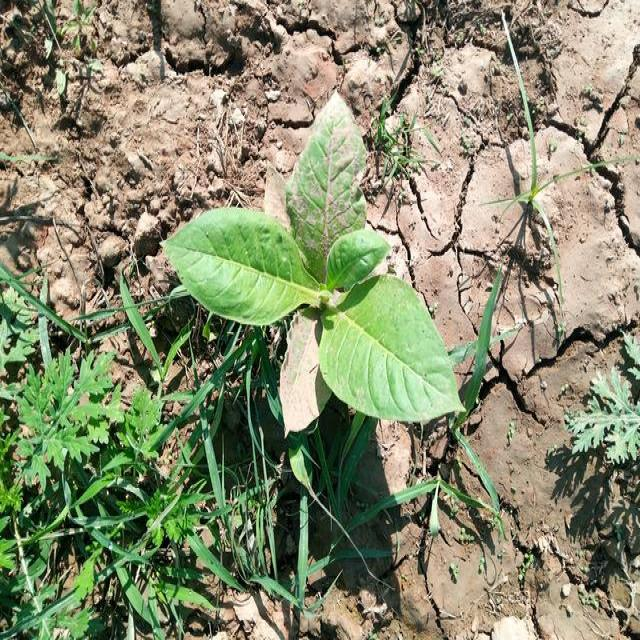crop: (176, 100, 454, 426)
